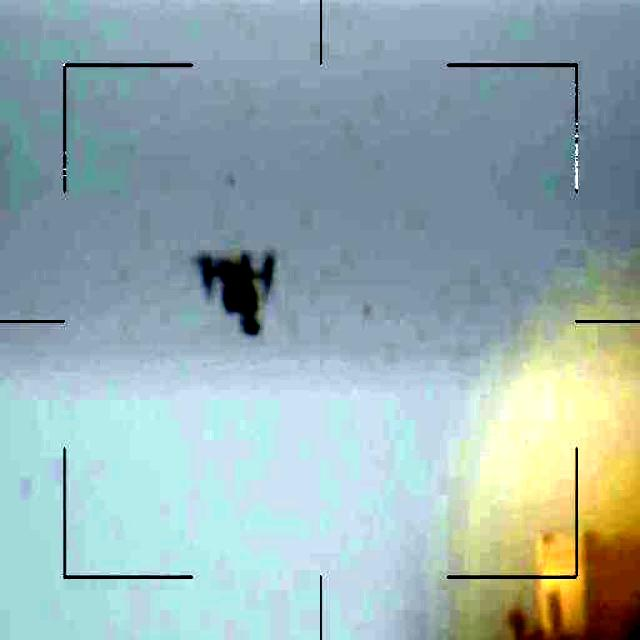bird: (201, 248, 279, 336)
